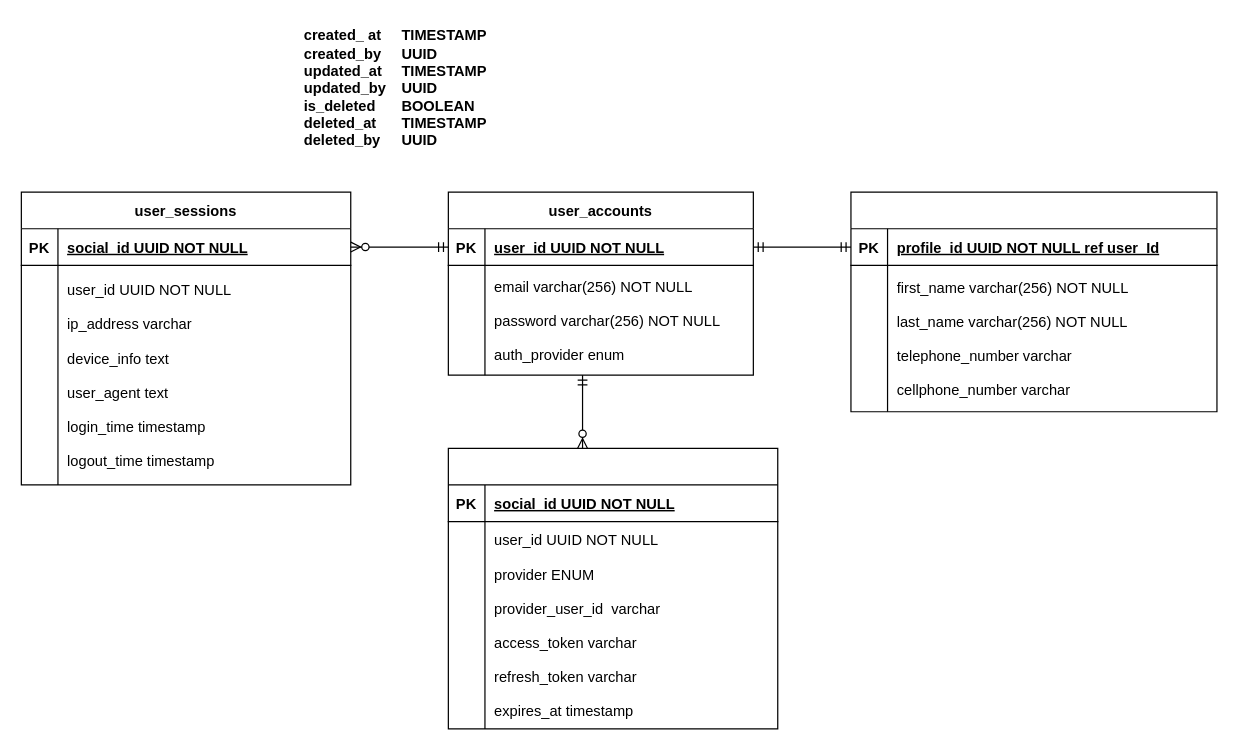
Some shapes in this 1238 by 750 pixel diagram are drawn without their labels. The box of each missing label's shape, as (x1, y1, x2, y2) in pixels:
user_profiles: (850, 191, 1217, 412)
user_social_accounts: (447, 447, 778, 729)
